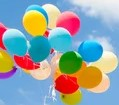Balloon: (2, 28, 29, 57), (22, 10, 47, 37), (55, 11, 80, 35), (48, 28, 72, 52), (76, 67, 102, 88), (30, 36, 51, 61), (79, 40, 102, 62), (59, 52, 82, 73), (55, 75, 80, 94), (62, 91, 83, 105)
